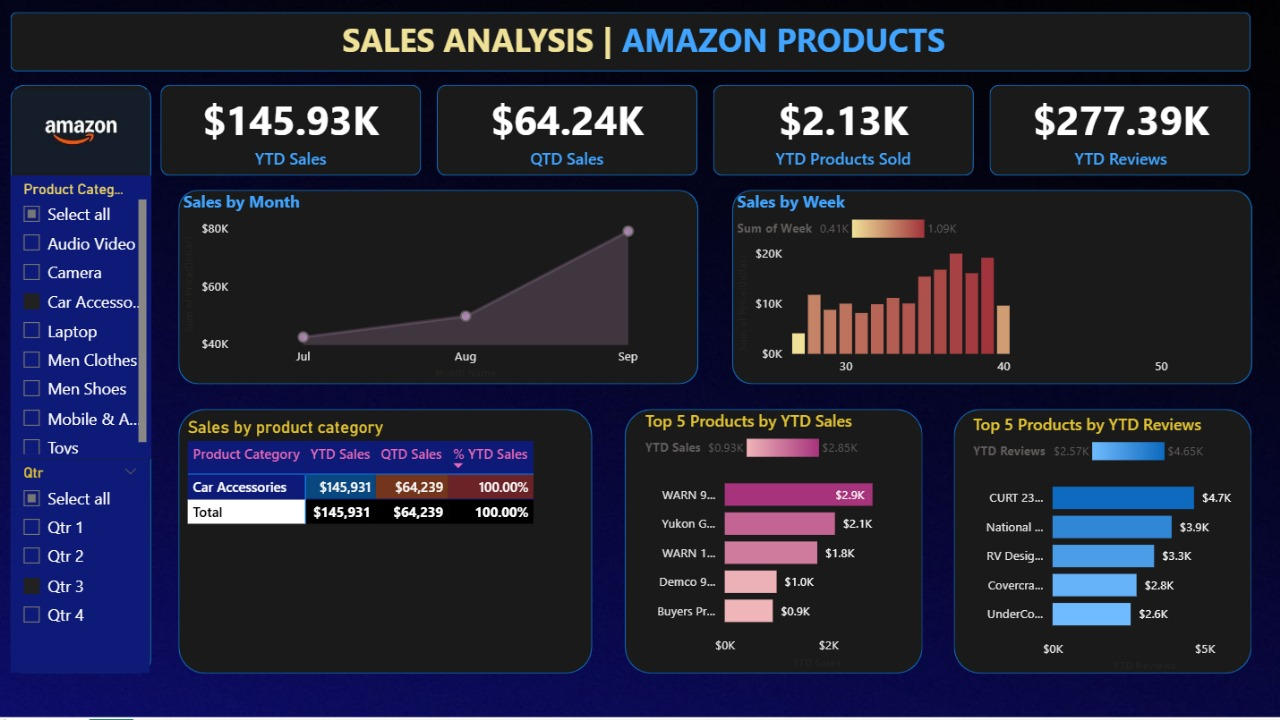

The page's visual inventory and layout, read from the dashboard file:
{"tool":"powerbi","page":{"name":"Page 1","canvas":[1280,720],"ordinal":0},"visuals":[{"type":"shape","box":[711.7,87.8,259.3,90.6],"z":0,"group":"g1"},{"type":"shape","box":[179.8,192.1,517.3,193.5],"z":0},{"type":"shape","box":[12.3,15.1,1233.6,59],"z":1000},{"type":"shape","box":[12.3,87.8,140,585.9],"z":2000},{"type":"shape","box":[161.9,87.8,259.3,90.6],"z":3000,"group":"g1"},{"type":"textbox","box":[337.6,15.1,702.6,59],"z":3000},{"type":"card","fields":{"Values":["Amazon_Data.YTD Sales"]},"box":[161.9,87.8,259.3,90.6],"z":4000,"group":"g1"},{"type":"group","id":"g1","title":"Group 1","box":[161.9,87.8,1085.4,90.6],"z":4000},{"type":"shape","box":[436.8,87.8,259.3,90.6],"z":5000,"group":"g1"},{"type":"areaChart","title":"Sales by Month ","fields":{"Category":["Date Table.Month Name"],"Y":["Sum(Amazon_Data.Price(Dollar))"]},"box":[179.8,192.1,517.3,193.5],"z":5000},{"type":"shape","box":[986.6,87.8,259.3,90.6],"z":6000,"group":"g1"},{"type":"shape","box":[730,192.1,517.3,193.5],"z":6000},{"type":"card","fields":{"Values":["Amazon_Data.QTD Sales"]},"box":[436.3,87.8,259.3,90.6],"z":7000,"group":"g1"},{"type":"columnChart","title":"Sales by Week","fields":{"Category":["Date Table.Week"],"Y":["Sum(Amazon_Data.Price(Dollar))"]},"box":[730,192.1,517.3,193.5],"z":7000},{"type":"card","fields":{"Values":["Amazon_Data.YTD Products Sold"]},"box":[712.2,87.8,259.3,90.6],"z":8000,"group":"g1"},{"type":"shape","box":[179.8,410.3,411.7,263.5],"z":8000},{"type":"card","fields":{"Values":["Amazon_Data.YTD Reviews"]},"box":[988,87.8,259.3,90.6],"z":9000,"group":"g1"},{"type":"pivotTable","title":"Sales by product category","fields":{"Rows":["Amazon_Data.Product Category"],"Values":["Amazon_Data.YTD Sales1","Amazon_Data.QTD Sales","Amazon_Data.YTD Sales"]},"box":[183.9,418.5,402.1,255.2],"z":9000},{"type":"shape","box":[623,410.3,296.4,263.5],"z":10000},{"type":"shape","box":[950.9,410.3,296.4,263.5],"z":11000},{"type":"clusteredBarChart","title":"Top 5 Products by YTD Sales","fields":{"Category":["Amazon_Data.Product Description"],"Y":["Amazon_Data.YTD Sales"]},"box":[639.5,410.3,282.7,263.5],"z":12000},{"type":"clusteredBarChart","title":"Top 5 Products by YTD Reviews","fields":{"Category":["Amazon_Data.Product Description"],"Y":["Amazon_Data.YTD Reviews"]},"box":[964.7,414.4,282.7,263.5],"z":13000},{"type":"slicer","fields":{"Values":["Amazon_Data.Product Category"]},"box":[12.3,178.4,140,282.7],"z":14000},{"type":"slicer","fields":{"Values":["Date Table.Qtr"]},"box":[12.3,461.1,138.6,212.7],"z":15000},{"type":"image","box":[1.4,87.8,161.9,93.3],"z":16000}]}

Visuals, with their boxes in screenshot pixels (x1, y1, x2, y2), scaled from the page's 1280x720 canvas onto the 1280x720 screenshot:
shape: <bbox>712, 88, 971, 178</bbox>
shape: <bbox>180, 192, 697, 386</bbox>
shape: <bbox>12, 15, 1246, 74</bbox>
shape: <bbox>12, 88, 152, 674</bbox>
shape: <bbox>162, 88, 421, 178</bbox>
textbox: <bbox>338, 15, 1040, 74</bbox>
card - Amazon_Data.YTD Sales: <bbox>162, 88, 421, 178</bbox>
"Group 1" group: <bbox>162, 88, 1247, 178</bbox>
shape: <bbox>437, 88, 696, 178</bbox>
"Sales by Month " areaChart: <bbox>180, 192, 697, 386</bbox>
shape: <bbox>987, 88, 1246, 178</bbox>
shape: <bbox>730, 192, 1247, 386</bbox>
card - Amazon_Data.QTD Sales: <bbox>436, 88, 696, 178</bbox>
"Sales by Week" columnChart: <bbox>730, 192, 1247, 386</bbox>
card - Amazon_Data.YTD Products Sold: <bbox>712, 88, 972, 178</bbox>
shape: <bbox>180, 410, 592, 674</bbox>
card - Amazon_Data.YTD Reviews: <bbox>988, 88, 1247, 178</bbox>
"Sales by product category" pivotTable: <bbox>184, 418, 586, 674</bbox>
shape: <bbox>623, 410, 919, 674</bbox>
shape: <bbox>951, 410, 1247, 674</bbox>
"Top 5 Products by YTD Sales" clusteredBarChart: <bbox>640, 410, 922, 674</bbox>
"Top 5 Products by YTD Reviews" clusteredBarChart: <bbox>965, 414, 1247, 678</bbox>
slicer - Amazon_Data.Product Category: <bbox>12, 178, 152, 461</bbox>
slicer - Date Table.Qtr: <bbox>12, 461, 151, 674</bbox>
image: <bbox>1, 88, 163, 181</bbox>
